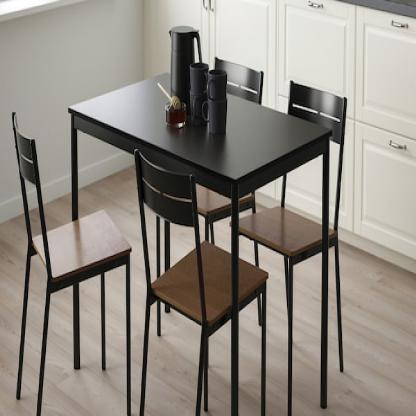chair: (7, 107, 136, 416), (138, 147, 271, 416), (234, 84, 349, 342), (152, 57, 269, 251)
